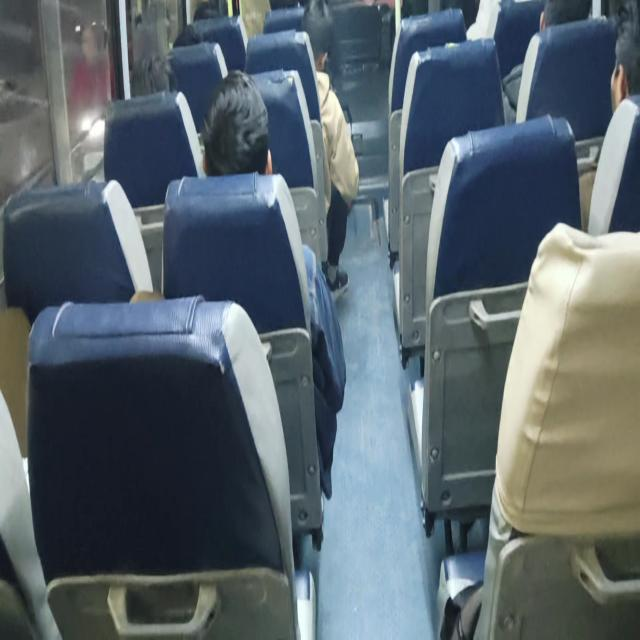person: (206, 94, 274, 194), (609, 24, 640, 137), (137, 65, 191, 129), (297, 15, 360, 58), (528, 0, 586, 46)
